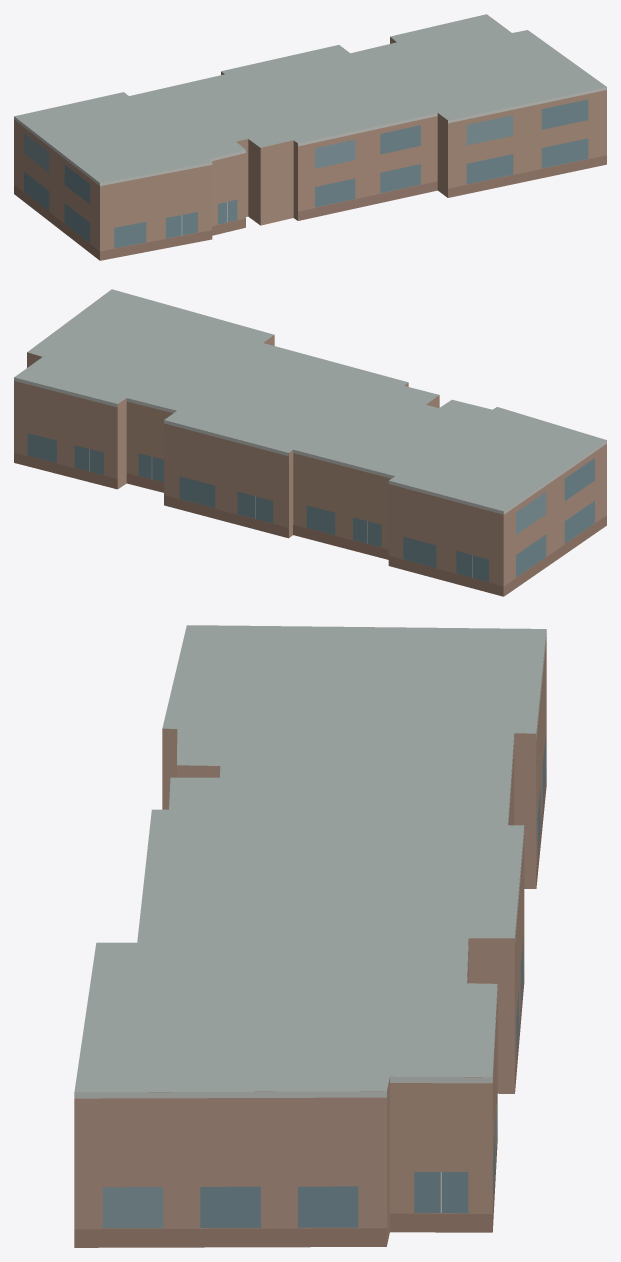
File: survey-upis-32849225.glb
3 views of the same model, one above another, from view 1: azimuth 30°, elevation 25°; view 2: azimuth 150°, elevation 25°; view 3: azimuth 270°, elevation 25° (orthographic). The views are drawn at different scales.
Parts seen in each view (by area): view 1: survey-upis-32849225.tmp; view 2: survey-upis-32849225.tmp; view 3: survey-upis-32849225.tmp.
Boxes of the visible parts, <box> form: survey-upis-32849225.tmp: <box>14,14,606,260</box>; survey-upis-32849225.tmp: <box>14,289,606,596</box>; survey-upis-32849225.tmp: <box>74,625,546,1247</box>.
Size of the model in its own units: 39.33 by 6.1 by 16.81.
